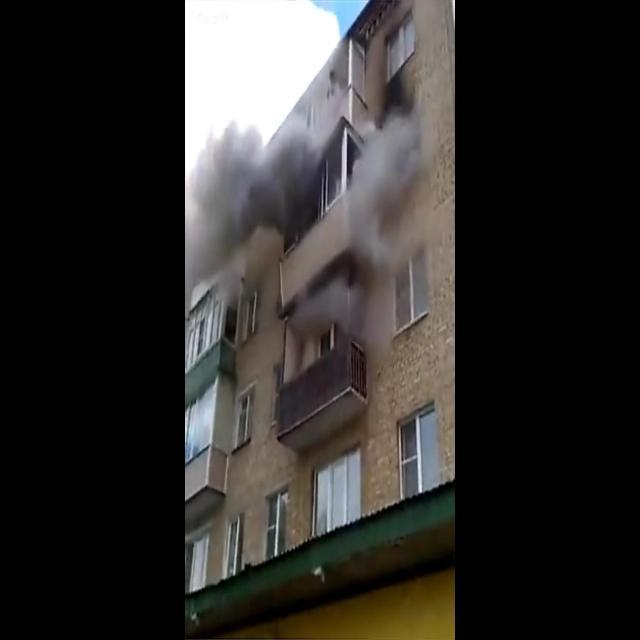Smoke: (186, 105, 330, 255), (342, 112, 430, 287), (293, 268, 369, 358)
